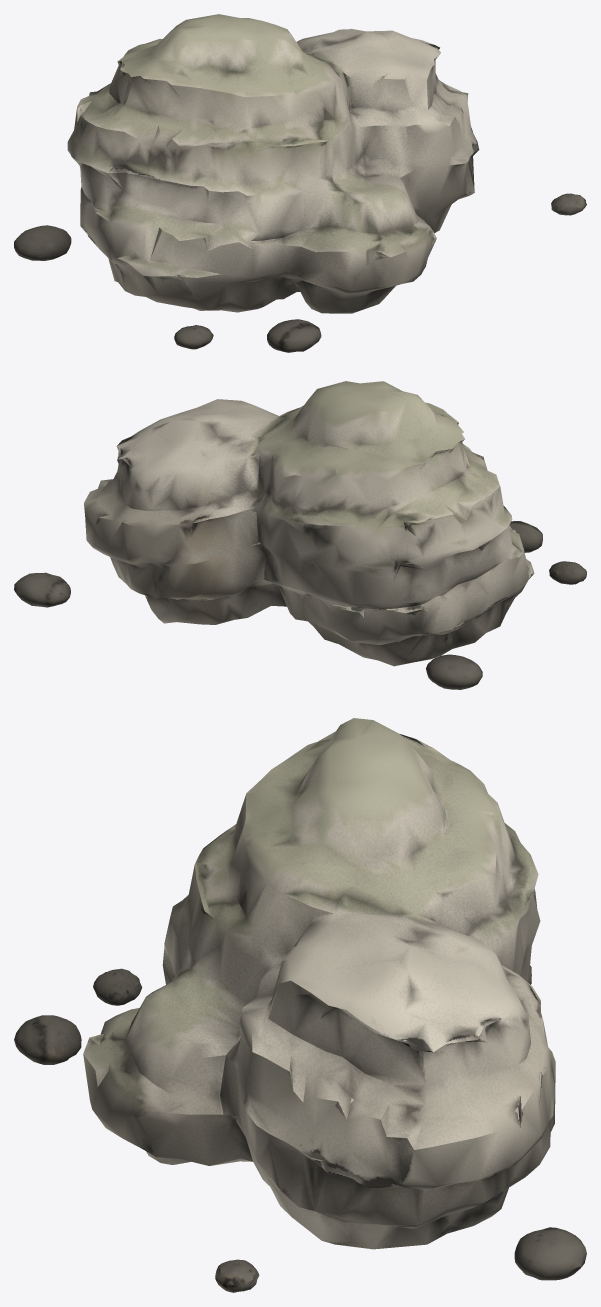
Rendered from costa_rocha_c.glb.
3 renders of one model, top to bottom at view 1: azimuth 30°, elevation 25°; view 2: azimuth 150°, elevation 25°; view 3: azimuth 270°, elevation 25°, orthographic. The views are drawn at different scales.
Visible parts, largest first — view 1: costa_rocha_c; view 2: costa_rocha_c; view 3: costa_rocha_c.
Boxes of the visible parts, box(x1,y1,x2,y2) form: costa_rocha_c: box(14, 14, 586, 352); costa_rocha_c: box(14, 381, 586, 689); costa_rocha_c: box(14, 718, 586, 1292).
Bounding box in the file's own units: 2.14 × 1.08 × 1.57.
Materials: 1 (1 with a texture image).
